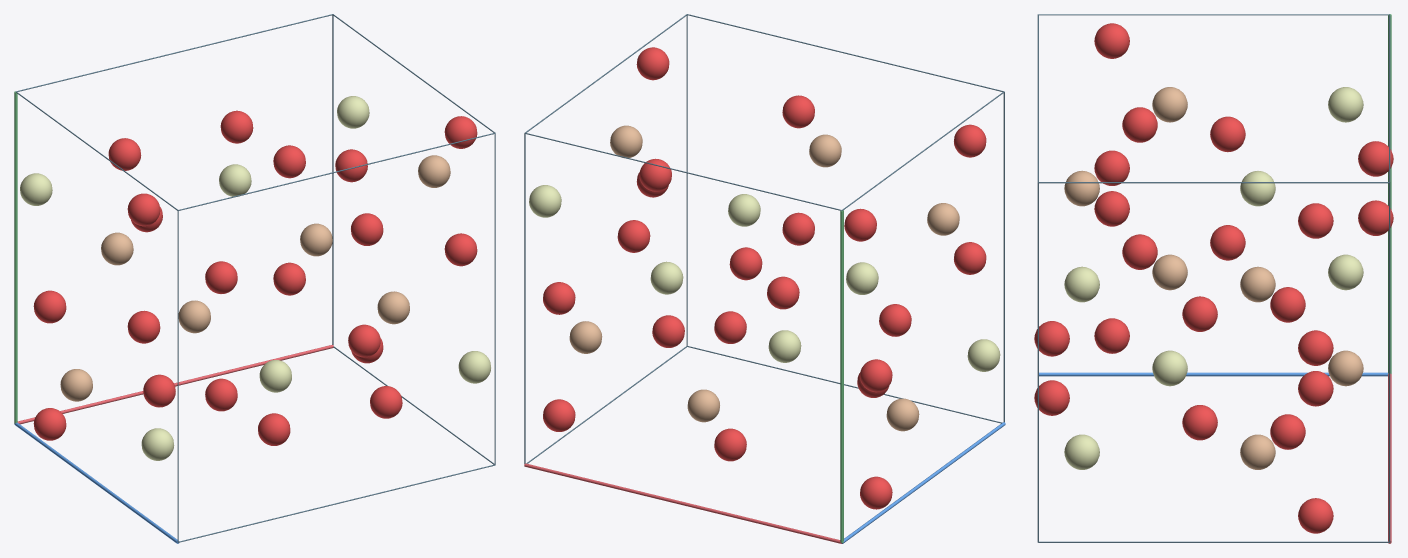
The model's file is thorite.glb.
The picture shows the model from 3 angles, left to right: view 1: azimuth 30°, elevation 25°; view 2: azimuth 150°, elevation 25°; view 3: azimuth 270°, elevation 25°; orthographic projection. The views are drawn at different scales.
Visible parts, largest first — view 1: O · O · 1 (×18), Ô mạng và các trục a, b, c, Si · Si · 1 (×6), Th · Th · 1 (×6); view 2: O · O · 1 (×18), Ô mạng và các trục a, b, c, Th · Th · 1 (×6), Si · Si · 1 (×6); view 3: O · O · 1 (×20), Ô mạng và các trục a, b, c, Th · Th · 1 (×6), Si · Si · 1 (×6).
Part boxes in pixels (left/top/right/bottom): O · O · 1 (×18): left=33, top=110, right=477, bottom=445; Ô mạng và các trục a, b, c: left=14, top=14, right=495, bottom=543; Si · Si · 1 (×6): left=60, top=155, right=450, bottom=401; Th · Th · 1 (×6): left=20, top=96, right=490, bottom=460; O · O · 1 (×18): left=543, top=47, right=986, bottom=509; Ô mạng và các trục a, b, c: left=524, top=14, right=1005, bottom=543; Th · Th · 1 (×6): left=529, top=185, right=1000, bottom=371; Si · Si · 1 (×6): left=569, top=125, right=959, bottom=431; O · O · 1 (×20): left=1034, top=23, right=1393, bottom=533; Ô mạng và các trục a, b, c: left=1037, top=14, right=1391, bottom=543; Th · Th · 1 (×6): left=1064, top=87, right=1363, bottom=469; Si · Si · 1 (×6): left=1064, top=87, right=1363, bottom=469.
Bounding box in the file's own units: 7.77 × 7.18 × 6.46.
